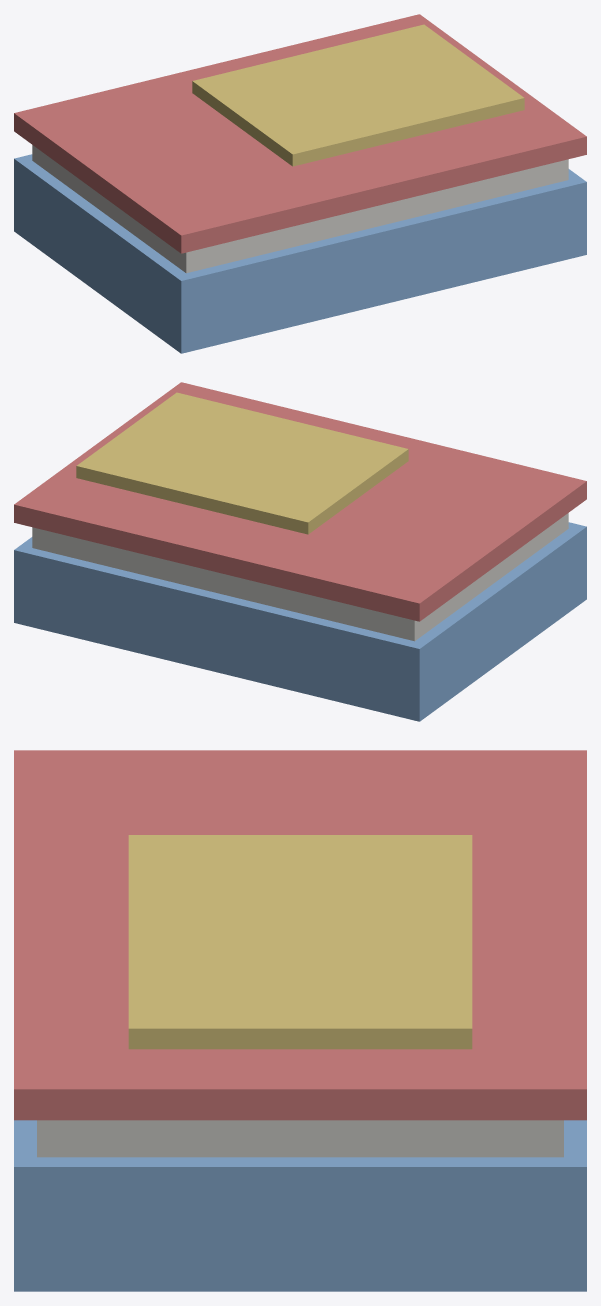
File: kid_livro_inf.glb
3 views of the same model, one above another, from view 1: azimuth 30°, elevation 25°; view 2: azimuth 150°, elevation 25°; view 3: azimuth 270°, elevation 25° (orthographic). The views are drawn at different scales.
Visible parts, largest first — view 1: KID_LIVRO_INF_v01; view 2: KID_LIVRO_INF_v01; view 3: KID_LIVRO_INF_v01.
Part boxes in pixels (bbox=[...]): KID_LIVRO_INF_v01: bbox=[14, 14, 586, 353]; KID_LIVRO_INF_v01: bbox=[14, 382, 586, 721]; KID_LIVRO_INF_v01: bbox=[14, 750, 586, 1291].
Bounding box in the file's own units: 0.35 × 0.115 × 0.25.
